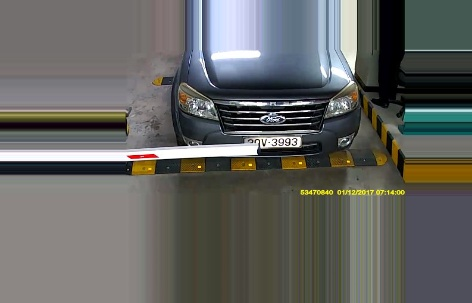plate: (242, 133, 304, 151)
